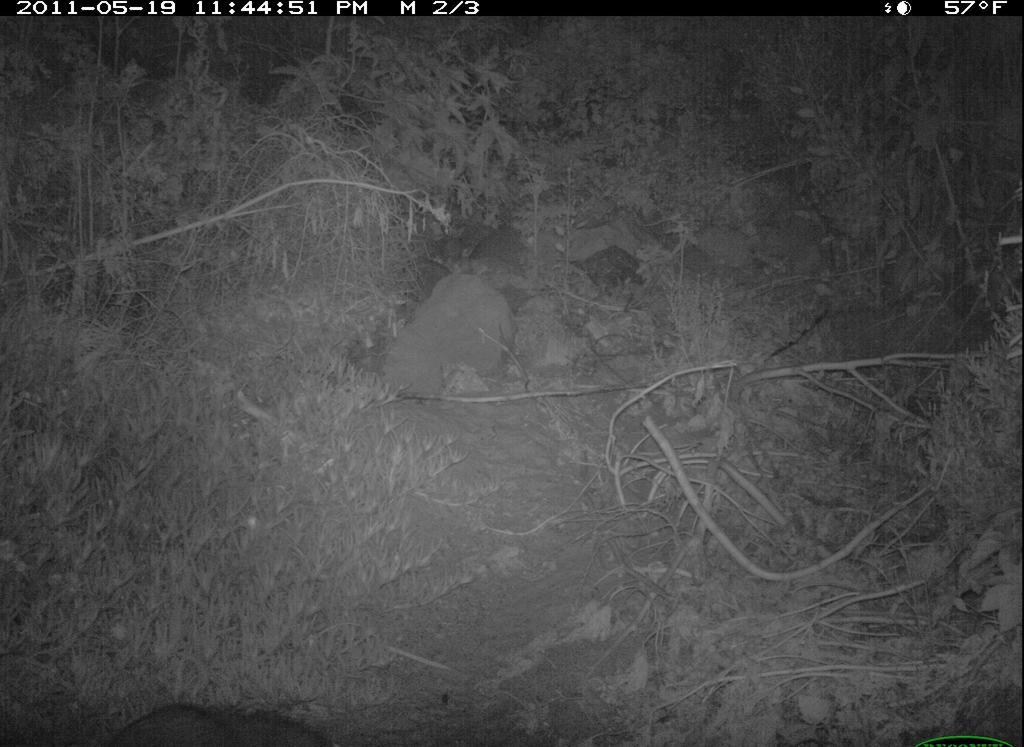raccoon: (102, 698, 341, 747)
